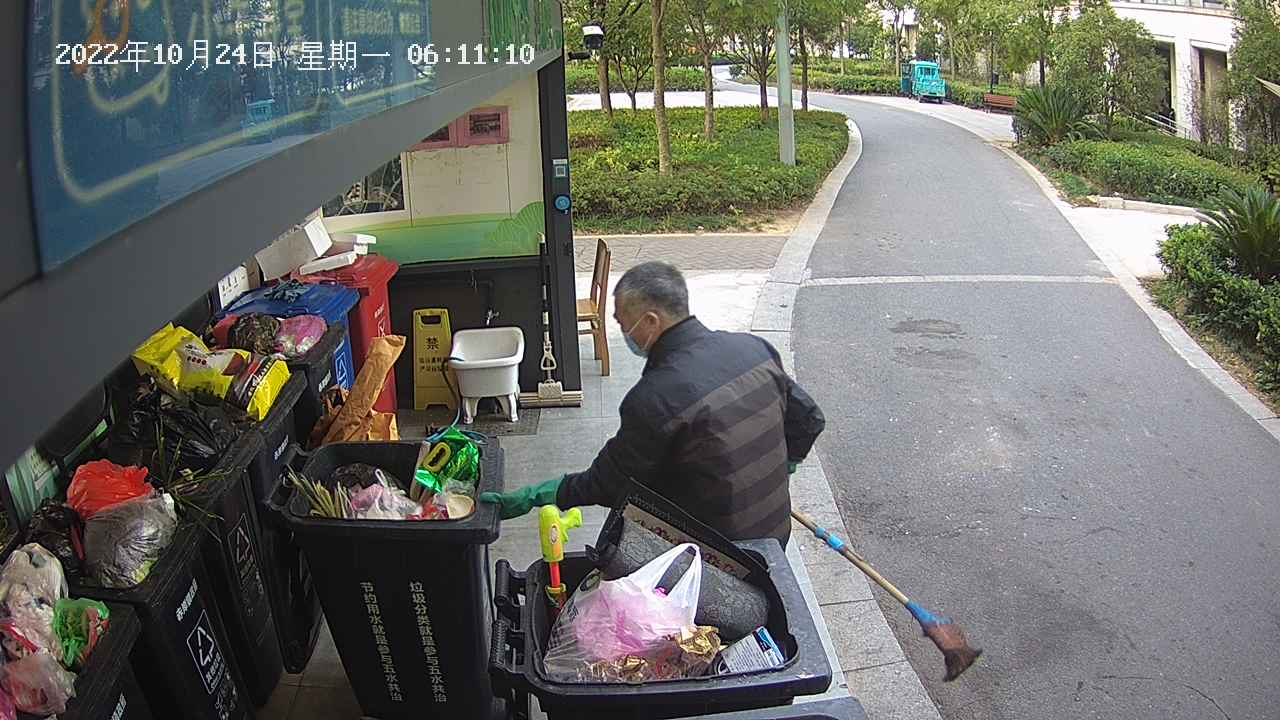person: (475, 253, 830, 575)
